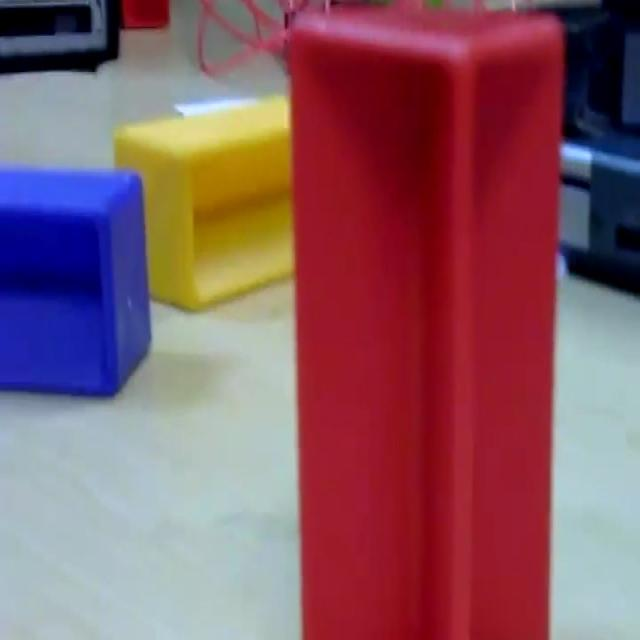blue_block: (0, 163, 152, 397)
red_block: (287, 7, 566, 636)
yellow_block: (113, 90, 294, 310)
